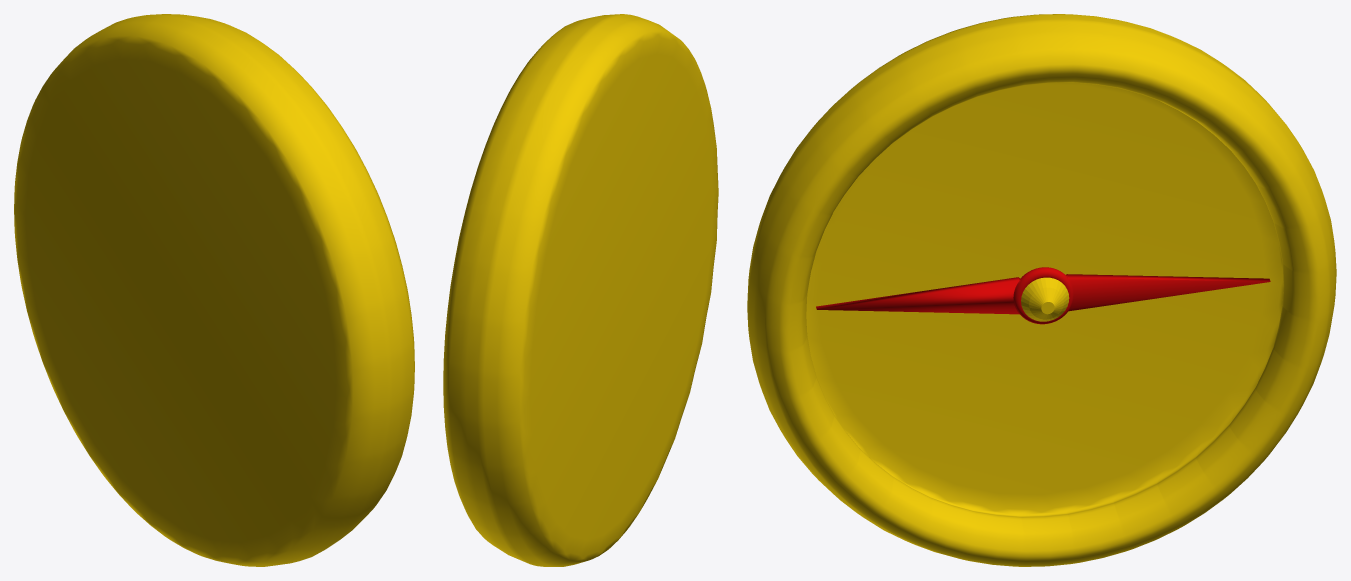
The model's file is boussole.glb.
3 renders of one model, left to right at view 1: azimuth 30°, elevation 25°; view 2: azimuth 150°, elevation 25°; view 3: azimuth 270°, elevation 25°, orthographic. The views are drawn at different scales.
Visible parts, largest first — view 1: imagetostl_mesh1; view 2: imagetostl_mesh1; view 3: imagetostl_mesh1, imagetostl_mesh0.
Part boxes in pixels (box(x1,y1,x2,y2)): imagetostl_mesh1: box(14, 14, 414, 566); imagetostl_mesh1: box(443, 14, 718, 566); imagetostl_mesh1: box(747, 14, 1336, 566); imagetostl_mesh0: box(816, 267, 1270, 324).
Size of the model in its own units: 0.2118 by 0.7226 by 0.7151.
